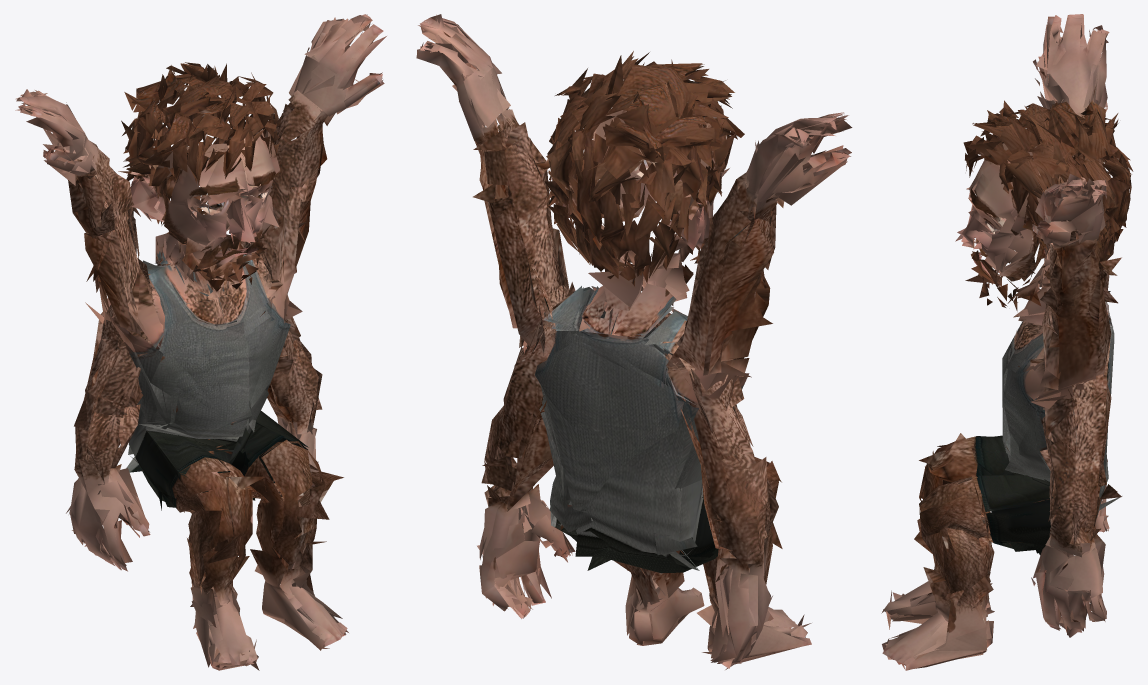
File: fan.glb
3 views of the same model, side by side, from view 1: azimuth 30°, elevation 25°; view 2: azimuth 150°, elevation 25°; view 3: azimuth 270°, elevation 25° (orthographic). The views are drawn at different scales.
Visible parts, largest first — view 1: Fan, FanSign, FanMid, FanSignMid, FanFar, FanSignFar; view 2: Fan, FanSign, FanSignMid, FanMid, FanFar, FanSignFar; view 3: Fan, FanSign, FanMid, FanSignMid, FanFar, FanSignFar.
Boxes of the visible parts, bbox=[...] form: Fan: bbox=[69, 62, 348, 670]; FanSign: bbox=[16, 14, 386, 421]; FanMid: bbox=[66, 63, 343, 669]; FanSignMid: bbox=[15, 15, 384, 421]; FanFar: bbox=[80, 64, 333, 665]; FanSignFar: bbox=[15, 17, 366, 433]; Fan: bbox=[477, 51, 811, 669]; FanSign: bbox=[416, 17, 852, 540]; FanSignMid: bbox=[424, 14, 848, 533]; FanMid: bbox=[477, 52, 811, 669]; FanFar: bbox=[489, 55, 790, 636]; FanSignFar: bbox=[430, 14, 841, 556]; Fan: bbox=[881, 100, 1133, 670]; FanSign: bbox=[1002, 14, 1121, 453]; FanMid: bbox=[892, 109, 1130, 665]; FanSignMid: bbox=[1018, 14, 1117, 485]; FanFar: bbox=[885, 105, 1124, 665]; FanSignFar: bbox=[1010, 30, 1112, 477].
Bounding box in the file's own units: 1.1 × 1.61 × 0.6666.
1 material, 1 textured.
